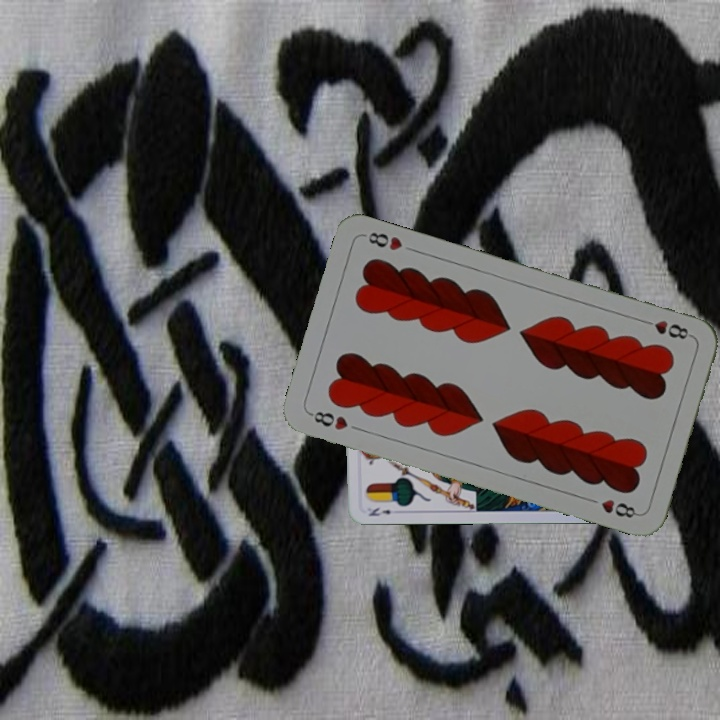EK: (365, 503, 394, 519)
H8: (637, 315, 695, 342), (305, 407, 351, 433)
